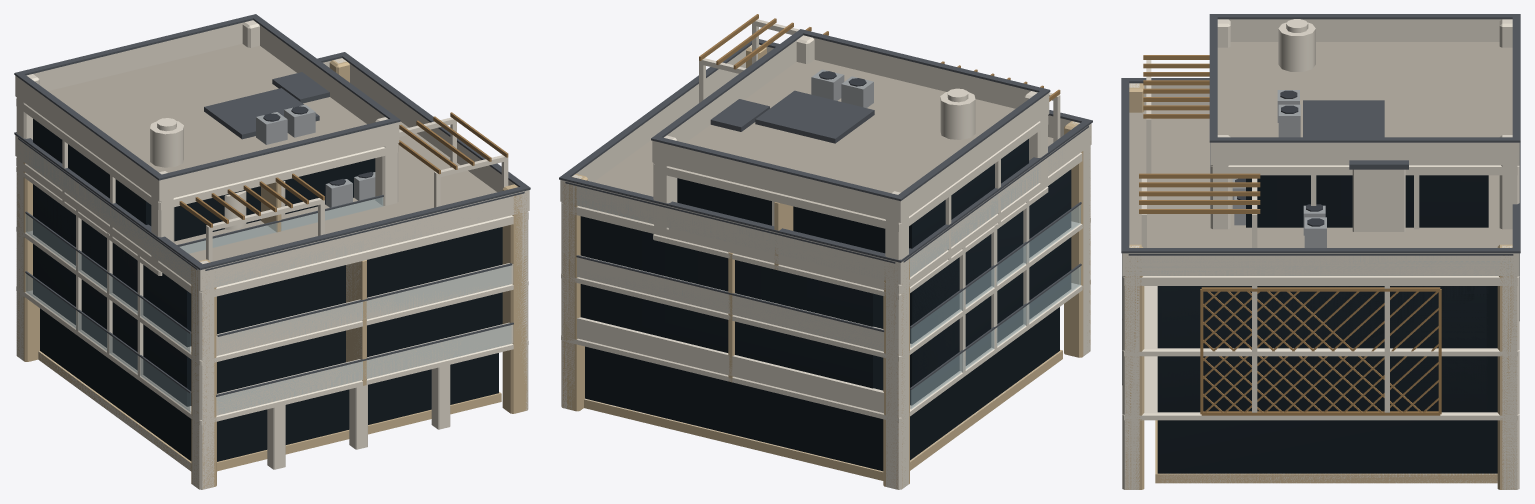
Rendered from lowrise-residential.glb.
3 views of the same model, side by side, from view 1: azimuth 30°, elevation 25°; view 2: azimuth 150°, elevation 25°; view 3: azimuth 270°, elevation 25° (orthographic). The views are drawn at different scales.
Visible parts, largest first — view 1: lowrise-residential_v0, lowrise-residential_v2, lowrise-residential_v1; view 2: lowrise-residential_v0, lowrise-residential_v2, lowrise-residential_v1; view 3: lowrise-residential_v0, lowrise-residential_v2, lowrise-residential_v1.
Part boxes in pixels (x1,y1,x2,y2): lowrise-residential_v0: [14, 52, 530, 489]; lowrise-residential_v2: [14, 14, 528, 489]; lowrise-residential_v1: [16, 58, 527, 488]; lowrise-residential_v0: [559, 39, 1092, 489]; lowrise-residential_v2: [561, 14, 1090, 489]; lowrise-residential_v1: [562, 45, 1090, 489]; lowrise-residential_v0: [1121, 55, 1520, 489]; lowrise-residential_v2: [1122, 14, 1520, 489]; lowrise-residential_v1: [1122, 83, 1517, 489].
Size of the model in its own units: 18.58 by 15.95 by 18.08.
